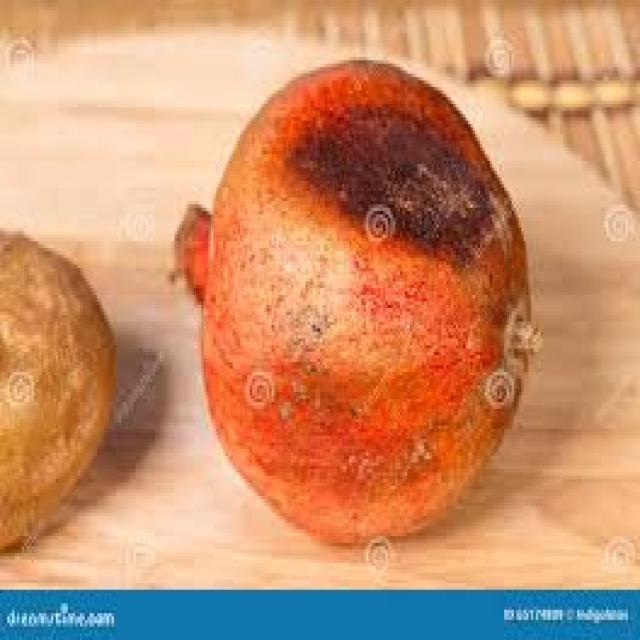Pomegranate: (208, 73, 526, 544)
